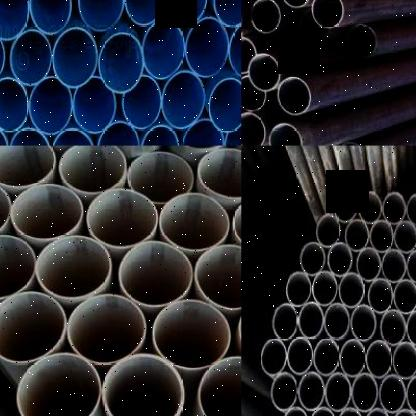pipe: (152, 299, 231, 369), (68, 293, 147, 363), (101, 352, 185, 416), (17, 353, 101, 416), (118, 241, 193, 306), (35, 236, 112, 299), (0, 291, 67, 363), (86, 188, 158, 248), (159, 192, 230, 251), (10, 184, 84, 240), (127, 151, 193, 204), (58, 146, 127, 194), (194, 244, 242, 310), (98, 32, 144, 94), (52, 27, 98, 88), (197, 355, 241, 416), (185, 16, 228, 78), (142, 19, 185, 80), (29, 76, 72, 135), (72, 77, 116, 134), (162, 71, 205, 129), (9, 30, 51, 85), (0, 146, 56, 187), (122, 74, 162, 130), (0, 235, 35, 298), (199, 148, 241, 198), (208, 78, 241, 133), (0, 77, 28, 132), (77, 0, 124, 31), (30, 0, 71, 35), (277, 76, 312, 115), (247, 53, 281, 91), (181, 118, 224, 146), (0, 0, 29, 41), (165, 0, 207, 27), (324, 372, 352, 412), (97, 120, 139, 146), (345, 24, 376, 58), (125, 0, 165, 26), (298, 371, 324, 411), (379, 375, 406, 413), (249, 0, 280, 33), (352, 373, 378, 412), (272, 372, 298, 411), (340, 339, 366, 378), (287, 336, 313, 375), (314, 338, 340, 376), (260, 338, 287, 374), (366, 341, 392, 378), (380, 309, 406, 346), (350, 304, 376, 341), (324, 303, 350, 340), (299, 301, 324, 339), (272, 304, 298, 340), (312, 270, 338, 306), (310, 0, 343, 28), (392, 341, 416, 379), (367, 278, 393, 313), (339, 272, 365, 307), (300, 10, 329, 41), (300, 242, 326, 276), (140, 124, 180, 146), (286, 272, 311, 306), (242, 76, 266, 111), (382, 248, 406, 283), (344, 219, 369, 252), (268, 122, 302, 146), (241, 112, 265, 146), (356, 247, 380, 281), (328, 242, 352, 276), (393, 278, 416, 313), (51, 128, 95, 146), (334, 190, 358, 223), (213, 0, 241, 28), (370, 220, 394, 252), (316, 214, 340, 246), (228, 20, 241, 79), (8, 127, 50, 145), (358, 192, 382, 223), (382, 192, 405, 224), (394, 220, 416, 252), (0, 180, 11, 240), (241, 37, 257, 75), (224, 118, 241, 146), (406, 374, 416, 413), (406, 308, 416, 346), (406, 248, 416, 282), (406, 193, 416, 224), (309, 405, 336, 416), (0, 27, 5, 84), (281, 406, 309, 416), (337, 406, 364, 416), (364, 407, 392, 416), (281, 0, 311, 7), (392, 408, 416, 416)
